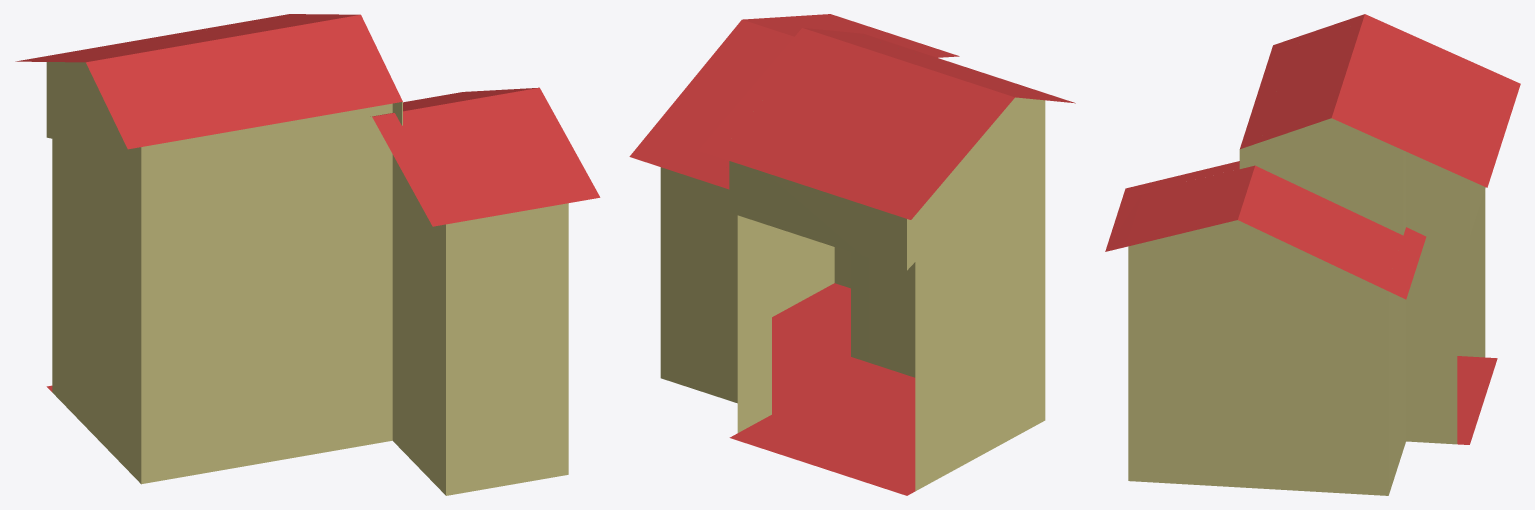
3 views of the same model, side by side, from view 1: azimuth 30°, elevation 25°; view 2: azimuth 150°, elevation 25°; view 3: azimuth 270°, elevation 25° (orthographic). The views are drawn at different scales.
Parts seen in each view (by area): view 1: group_9, group_5, group_7, group_3, group_8, group_4; view 2: group_9, group_7, group_5, group_10, group_3, group_6, group_8, group_4; view 3: group_5, group_9, group_7, group_3, group_8, group_10, group_4.
Part boxes in pixels (box(x1,y1,x2,y2)): group_9: box(46, 18, 402, 484); group_5: box(370, 116, 568, 495); group_7: box(15, 14, 402, 130); group_3: box(370, 87, 600, 226); group_8: box(78, 14, 401, 149); group_4: box(374, 87, 597, 224); group_9: box(729, 97, 1045, 491); group_7: box(699, 28, 1044, 219); group_5: box(660, 167, 868, 421); group_10: box(729, 362, 915, 495); group_3: box(629, 14, 959, 189); group_6: box(759, 283, 867, 421); group_8: box(698, 32, 1075, 216); group_4: box(630, 16, 954, 156); group_5: box(1128, 220, 1426, 495); group_9: box(1239, 118, 1485, 444); group_7: box(1240, 14, 1520, 186); group_3: box(1105, 161, 1426, 299); group_8: box(1240, 14, 1495, 187); group_10: box(1457, 356, 1497, 444); group_4: box(1107, 162, 1402, 296).
Size of the model in its own units: 14.61 by 15.18 by 13.21.
